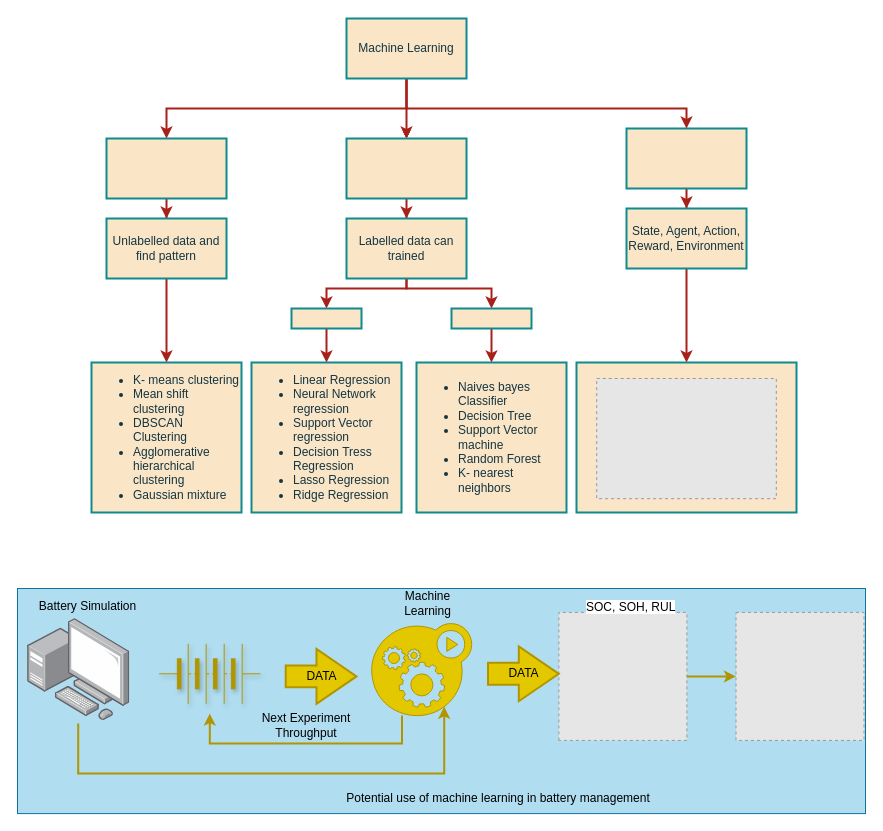
Some shapes in this 883 by 831 pixel diagram are drawn without their labels. Grey dashed boxes stand in for pictures. Each missing label, with the centre of its shape:
"Classification" goes at point 491,318.
"Regression" goes at point 326,318.
"Reinforcement Learning" goes at point 686,158.
"Supervised Learning" goes at point 406,168.
"Unsupervised Learning" goes at point 166,168.
